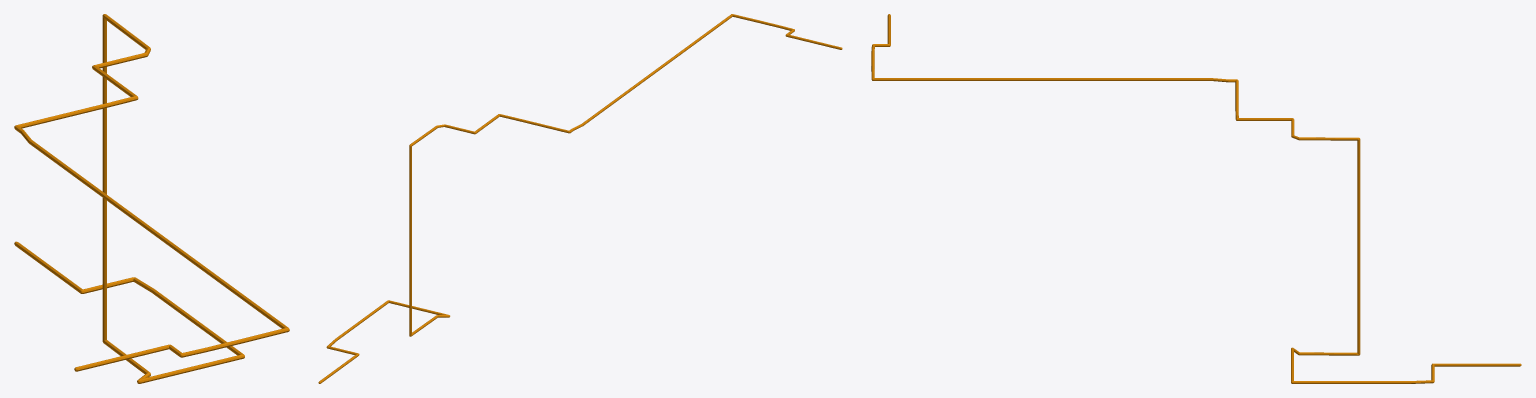
The picture shows the model from 3 angles, left to right: view 1: azimuth 30°, elevation 25°; view 2: azimuth 150°, elevation 25°; view 3: azimuth 270°, elevation 25°; orthographic projection. The views are drawn at different scales.
Size of the model in its own units: 2294 by 1520 by 4112.
